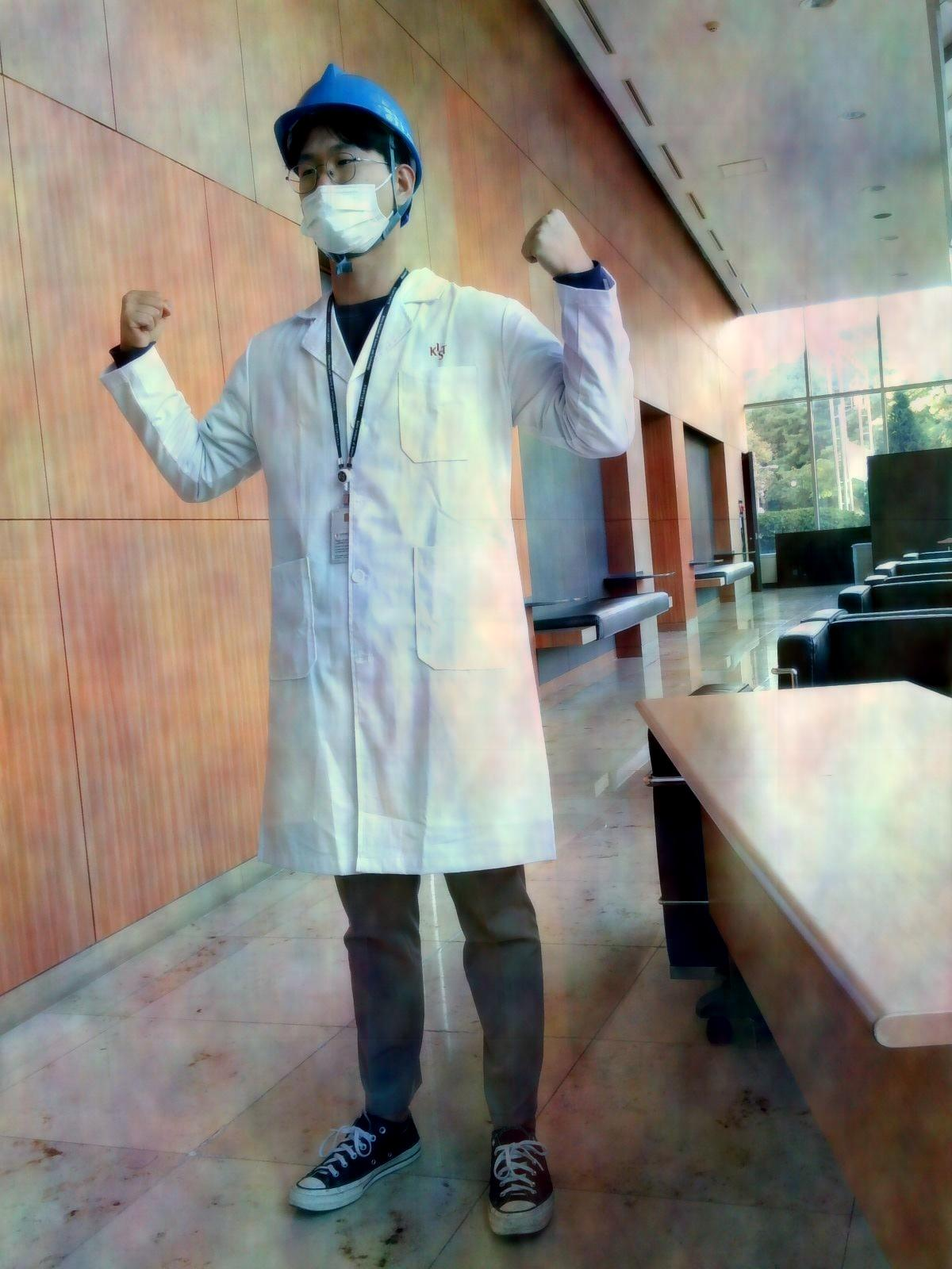Lab_coat: (97, 266, 638, 880)
